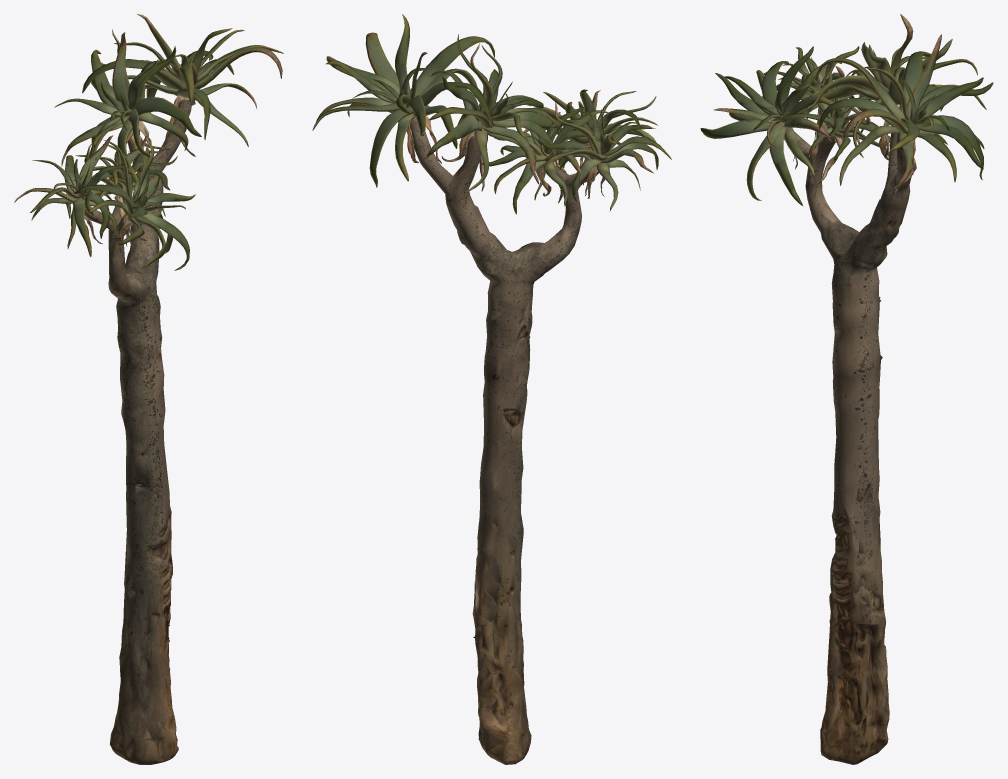
The model's file is quiver_tree_01.glb.
3 views of the same model, side by side, from view 1: azimuth 30°, elevation 25°; view 2: azimuth 150°, elevation 25°; view 3: azimuth 270°, elevation 25° (orthographic). The views are drawn at different scales.
Visible parts, largest first — view 1: quiver_tree_01; view 2: quiver_tree_01; view 3: quiver_tree_01.
Boxes of the visible parts, x1,y1,x2,y2 form: quiver_tree_01: (14,14,283,764); quiver_tree_01: (312,14,671,764); quiver_tree_01: (700,14,993,764).
Size of the model in its own units: 1.18 by 2.72 by 0.9677.
Materials: 2 (2 with a texture image).
